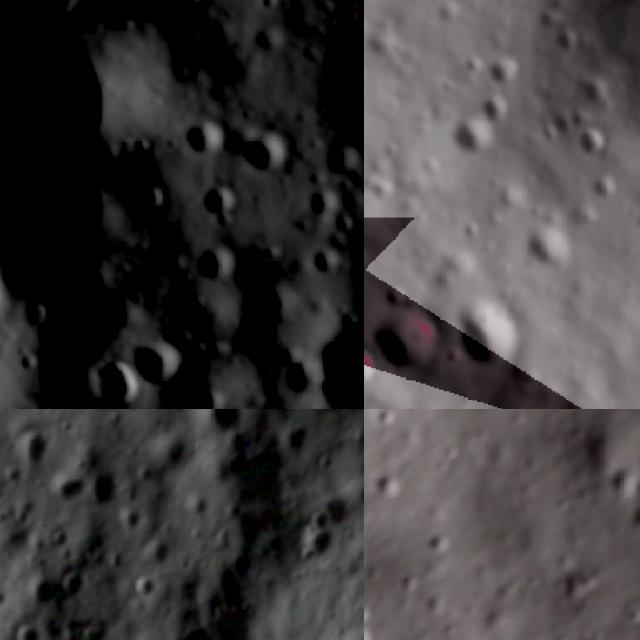crater: (0, 4, 135, 190), (302, 307, 364, 409), (454, 298, 527, 378), (565, 0, 640, 74), (373, 306, 446, 377), (123, 337, 187, 397), (228, 125, 294, 180), (87, 351, 147, 409), (192, 173, 246, 232), (515, 217, 575, 270), (447, 114, 498, 172), (243, 280, 296, 335), (274, 345, 326, 400), (552, 554, 603, 603), (82, 466, 122, 520), (298, 529, 347, 573), (11, 428, 54, 474), (20, 574, 62, 620), (193, 241, 235, 285), (179, 118, 223, 160), (48, 473, 88, 517), (131, 536, 177, 574), (121, 570, 164, 608), (369, 465, 409, 505), (189, 409, 246, 437), (583, 171, 624, 209), (52, 567, 90, 606), (574, 121, 610, 162), (305, 184, 343, 222), (325, 144, 363, 182), (308, 247, 348, 282), (486, 53, 521, 91), (479, 90, 511, 130), (420, 524, 455, 558), (130, 184, 167, 216), (364, 168, 396, 205), (348, 55, 364, 127), (610, 461, 640, 499), (364, 343, 382, 397), (5, 622, 51, 640), (370, 409, 399, 436), (364, 592, 381, 628), (350, 0, 364, 36), (364, 618, 386, 640), (570, 630, 607, 640), (631, 301, 640, 338)
